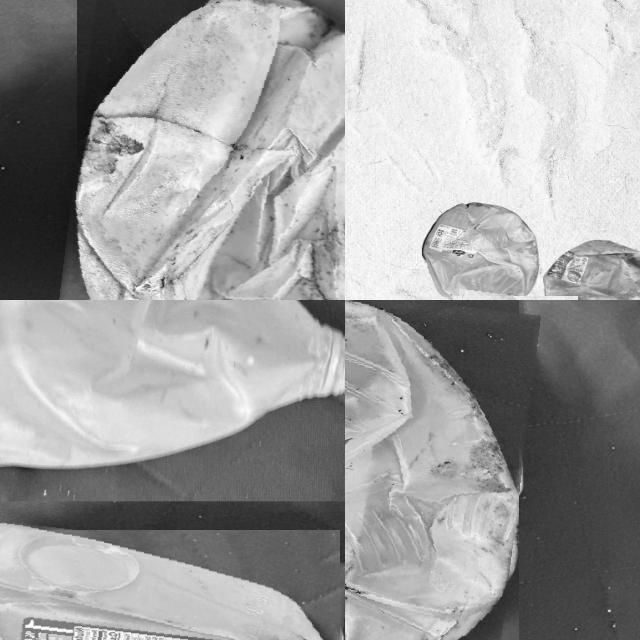milk-jug: (67, 0, 345, 300), (345, 300, 530, 640), (0, 300, 345, 463), (0, 513, 345, 640), (419, 200, 540, 300), (542, 237, 640, 300)
